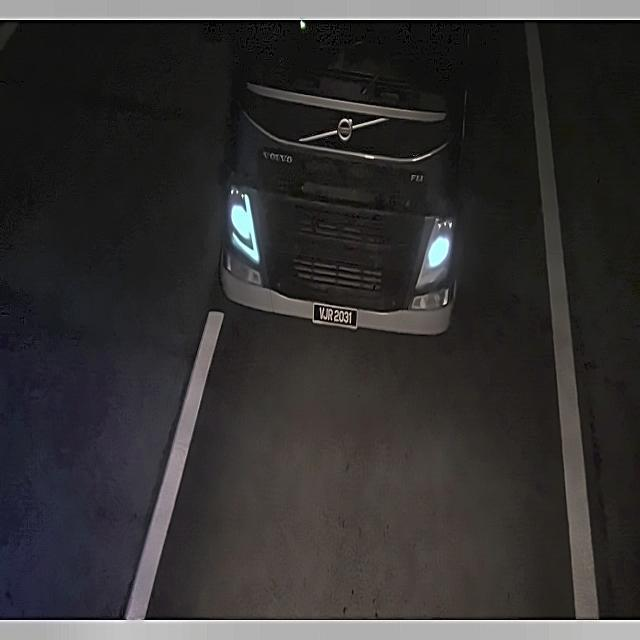car: (311, 303, 361, 332)
